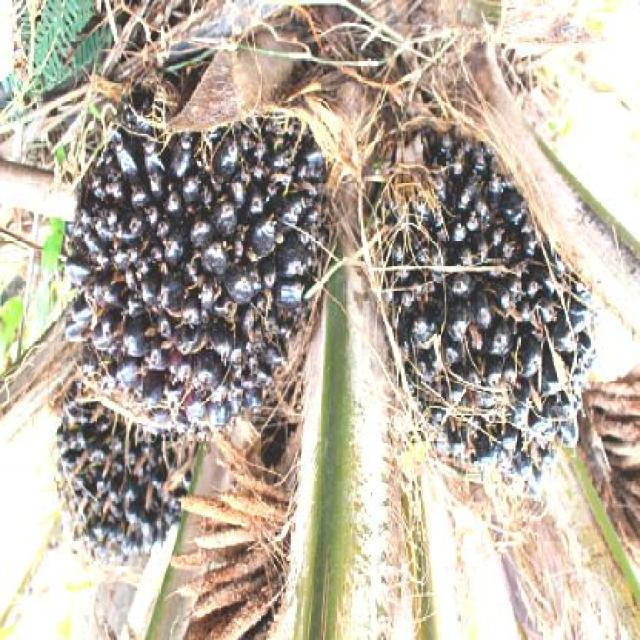palm-oil: (351, 102, 607, 494), (57, 86, 334, 429), (38, 359, 226, 553)
